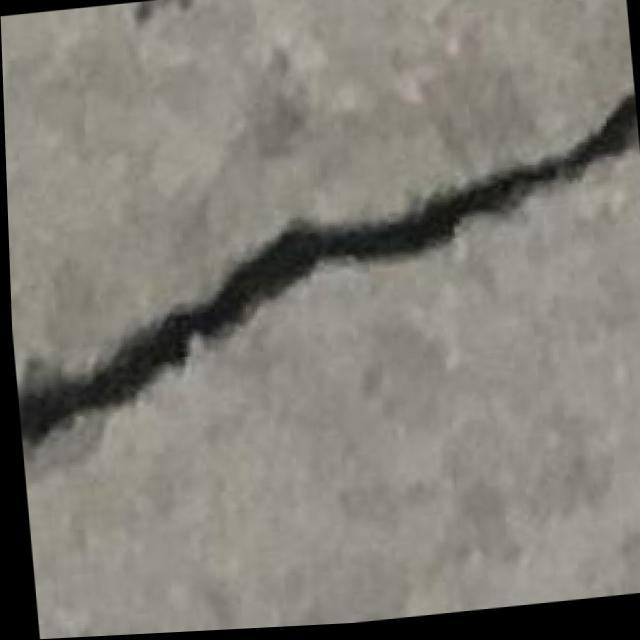Crack: (3, 94, 640, 458)
